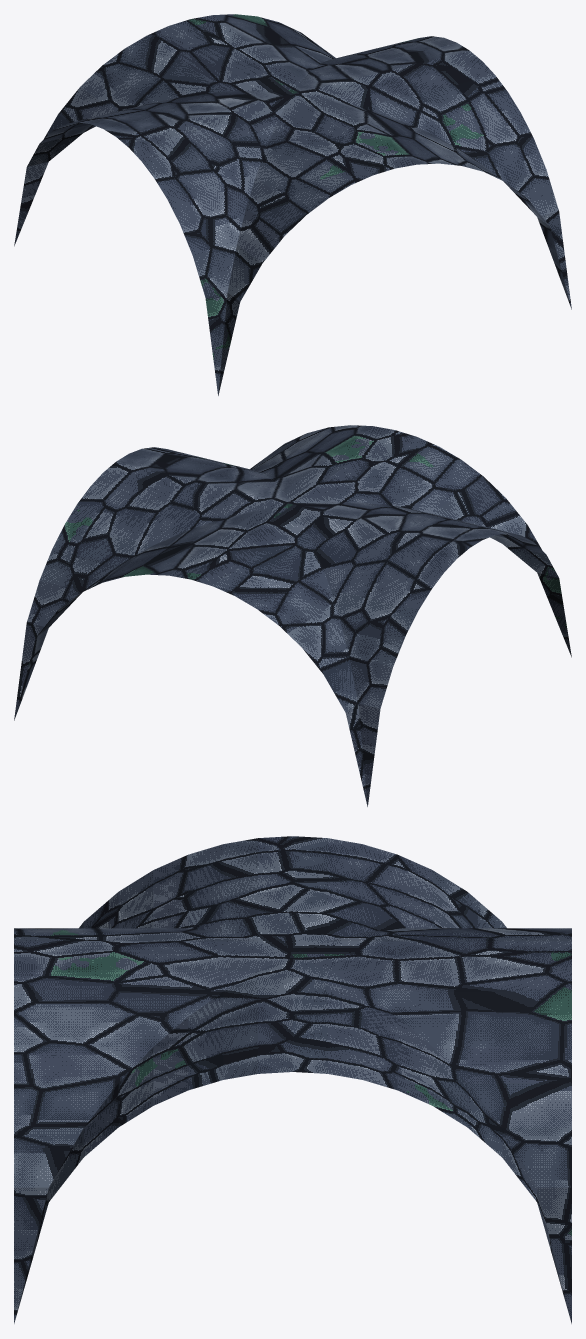
Rendered from SM_Env_VaultGroin_4x4.glb.
3 renders of one model, top to bottom at view 1: azimuth 30°, elevation 25°; view 2: azimuth 150°, elevation 25°; view 3: azimuth 270°, elevation 25°, orthographic. The views are drawn at different scales.
Visible parts, largest first — view 1: vault; view 2: vault; view 3: vault.
Boxes of the visible parts, x1,y1,x2,y2 form: vault: (14, 14, 571, 395); vault: (14, 425, 571, 806); vault: (14, 836, 571, 1323).
Bounding box in the file's own units: 4 × 2 × 4.
Materials: 1 (1 with a texture image).
